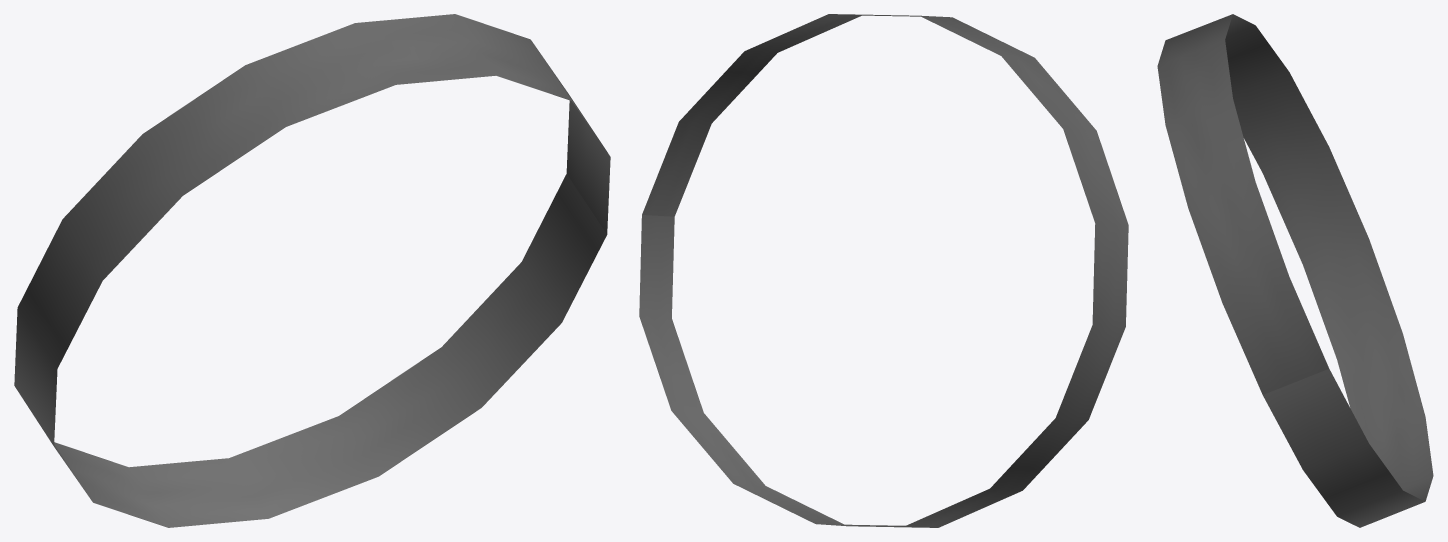
File: mastarmcurve_8x2_c1.obj
The picture shows the model from 3 angles, left to right: view 1: azimuth 30°, elevation 25°; view 2: azimuth 150°, elevation 25°; view 3: azimuth 270°, elevation 25°; orthographic projection. The views are drawn at different scales.
Parts seen in each view (by area): view 1: mastarm_8x2_c1; view 2: mastarm_8x2_c1; view 3: mastarm_8x2_c1.
Boxes of the visible parts, bbox=[...] form: mastarm_8x2_c1: bbox=[14, 14, 610, 527]; mastarm_8x2_c1: bbox=[639, 14, 1128, 527]; mastarm_8x2_c1: bbox=[1157, 14, 1433, 527].
Bounding box in the file's own units: 0.5656 × 0.5496 × 0.2974.
